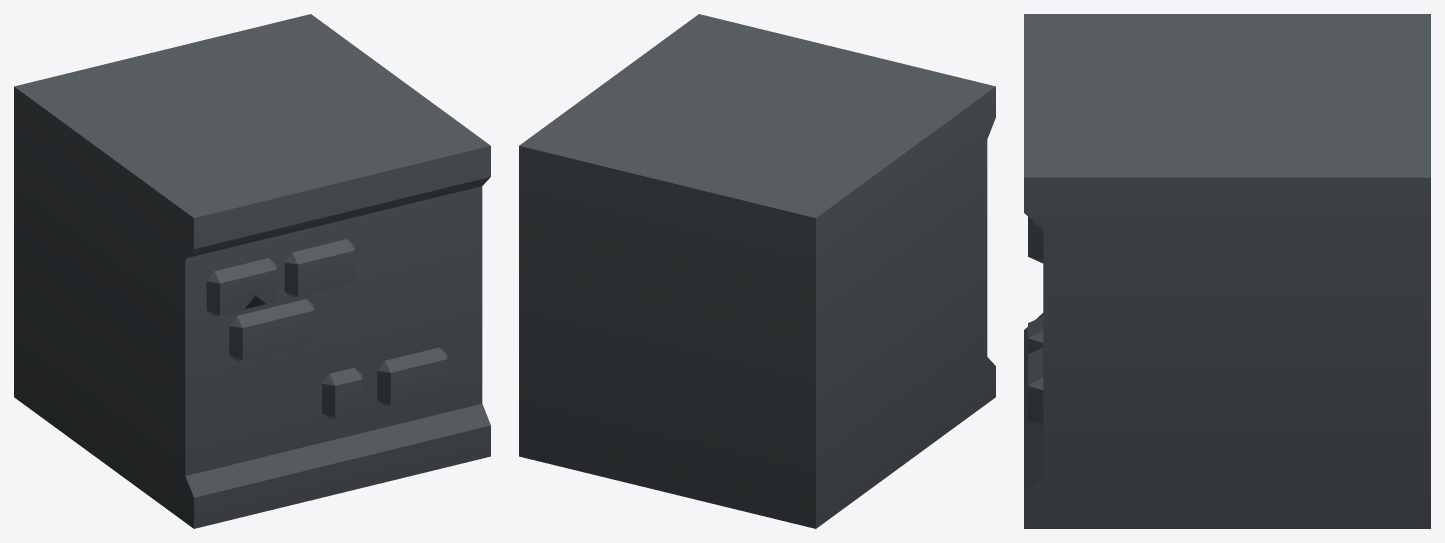
File: floor_foundation_front.glb
3 renders of one model, left to right at view 1: azimuth 30°, elevation 25°; view 2: azimuth 150°, elevation 25°; view 3: azimuth 270°, elevation 25°, orthographic. The views are drawn at different scales.
Visible parts, largest first — view 1: floor_foundation_front; view 2: floor_foundation_front; view 3: floor_foundation_front.
Boxes of the visible parts, x1,y1,x2,y2 form: floor_foundation_front: (14, 14, 490, 528); floor_foundation_front: (519, 14, 995, 528); floor_foundation_front: (1024, 14, 1430, 528).
Size of the model in its own units: 2 by 2 by 2.1.
Materials: 1 (1 with a texture image).
